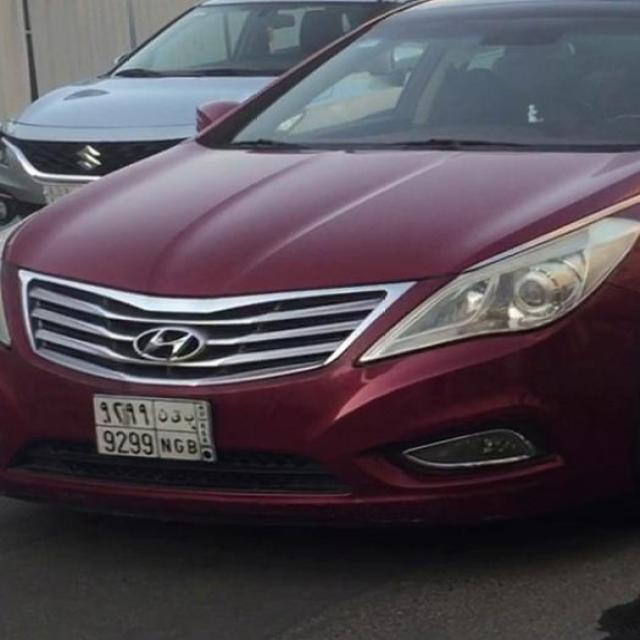Car-plate: (70, 386, 239, 472)
